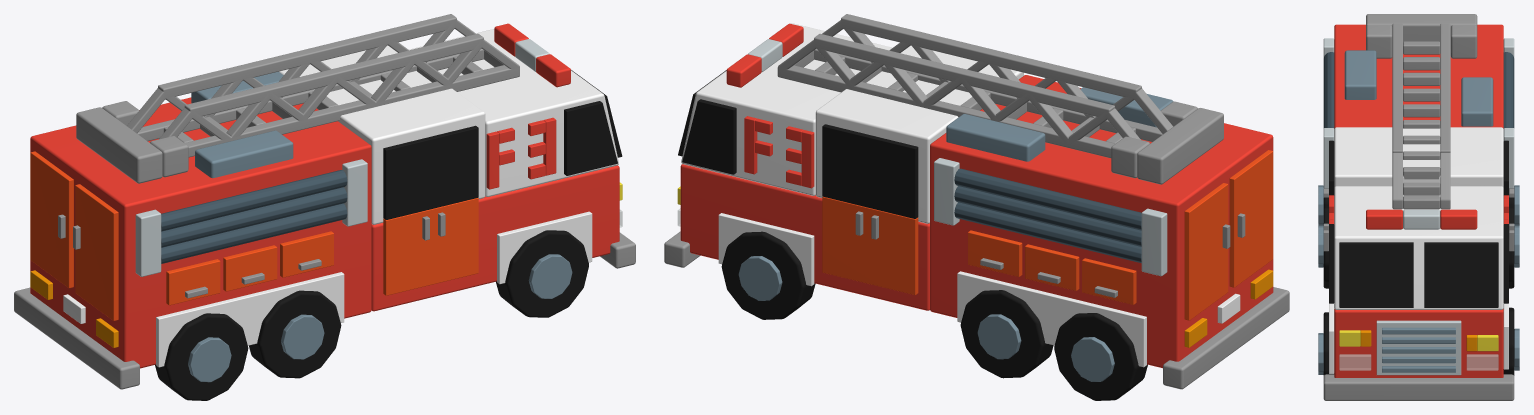
Rendered from fire.glb.
3 renders of one model, left to right at view 1: azimuth 30°, elevation 25°; view 2: azimuth 150°, elevation 25°; view 3: azimuth 270°, elevation 25°, orthographic. The views are drawn at different scales.
Parts seen in each view (by area): view 1: group519370239, group185491775, group1945329526, group175345217, group1738684917, group1826006281, group139840733, group1681719414, group82081570, group1892506739, group938532286, group146818588 (+34 smaller); view 2: group519370239, group185491775, group1945329526, group175345217, group1949654852, group2066065393, group1681719414, group139840733, group1892506739, group82081570, group1884237432, group1267943645 (+34 smaller); view 3: group1945329526, group175345217, group519370239, group185491775, group1160962185, group296302351, group1529591549, group898051558, group90837543, group1987148186, group1646953769, group1892506739 (+50 smaller).
Part boxes in pixels (x1,y1,x2,y2): group519370239: [30, 97, 371, 368]; group185491775: [371, 165, 619, 311]; group1945329526: [409, 29, 618, 196]; group175345217: [279, 45, 485, 224]; group1738684917: [383, 125, 478, 219]; group1826006281: [383, 198, 478, 295]; group139840733: [75, 184, 118, 320]; group1681719414: [30, 151, 73, 288]; group82081570: [158, 14, 456, 98]; group1892506739: [184, 33, 483, 118]; group938532286: [156, 272, 344, 367]; group146818588: [496, 230, 588, 317]; group519370239: [930, 75, 1273, 368]; group185491775: [680, 164, 929, 310]; group1945329526: [681, 23, 892, 195]; group175345217: [815, 45, 1023, 223]; group1949654852: [822, 124, 918, 218]; group2066065393: [822, 196, 918, 295]; group1681719414: [1184, 183, 1228, 320]; group139840733: [1229, 150, 1273, 287]; group1892506739: [841, 14, 1141, 98]; group82081570: [814, 33, 1114, 118]; group1884237432: [957, 271, 1146, 367]; group1267943645: [721, 231, 815, 319]; group1945329526: [1334, 186, 1503, 309]; group175345217: [1334, 127, 1503, 187]; group519370239: [1334, 24, 1503, 128]; group185491775: [1334, 309, 1503, 377]; group1160962185: [1424, 242, 1498, 307]; group296302351: [1339, 242, 1413, 307]; group1529591549: [1323, 374, 1514, 400]; group898051558: [1376, 320, 1461, 375]; group90837543: [1366, 14, 1477, 42]; group1987148186: [1461, 77, 1493, 126]; group1646953769: [1344, 50, 1376, 99]; group1892506739: [1392, 23, 1402, 152].
Bounding box in the file's own units: 1 × 0.4792 × 0.38.
